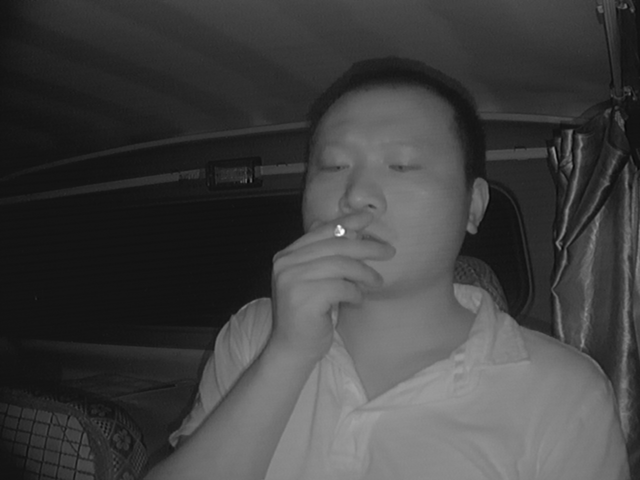hand: (290, 211, 386, 319)
